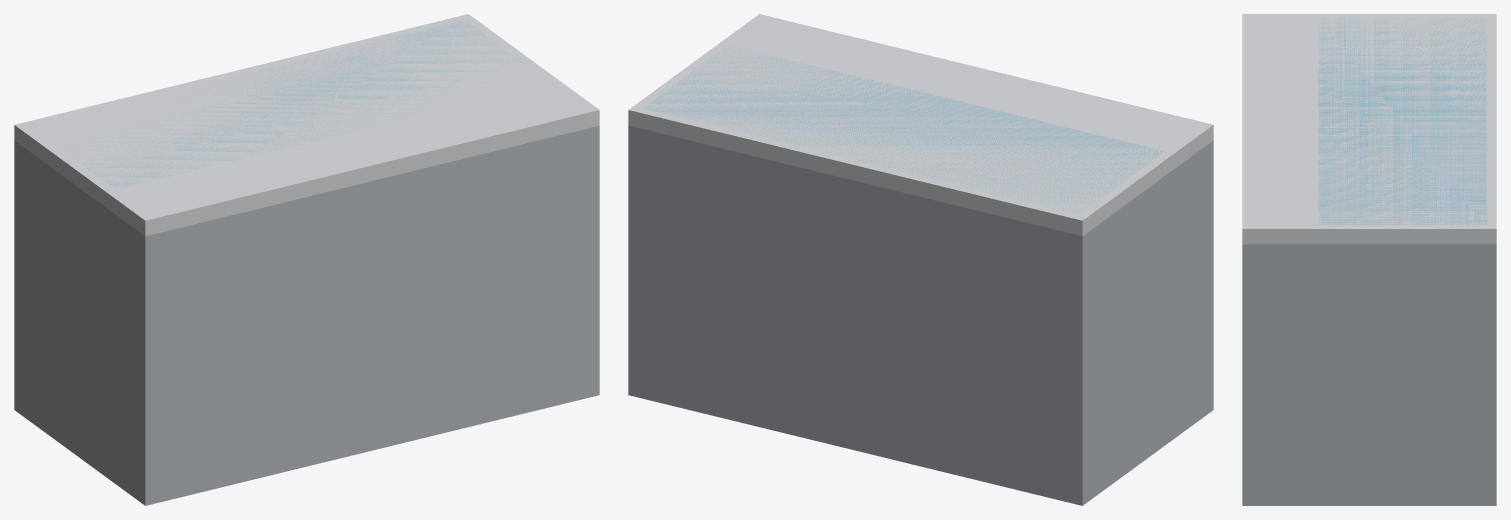
File: display_ice_cream_dipping_60.glb
3 views of the same model, side by side, from view 1: azimuth 30°, elevation 25°; view 2: azimuth 150°, elevation 25°; view 3: azimuth 270°, elevation 25° (orthographic). The views are drawn at different scales.
Size of the model in its own units: 1.52 by 0.9144 by 0.762.
